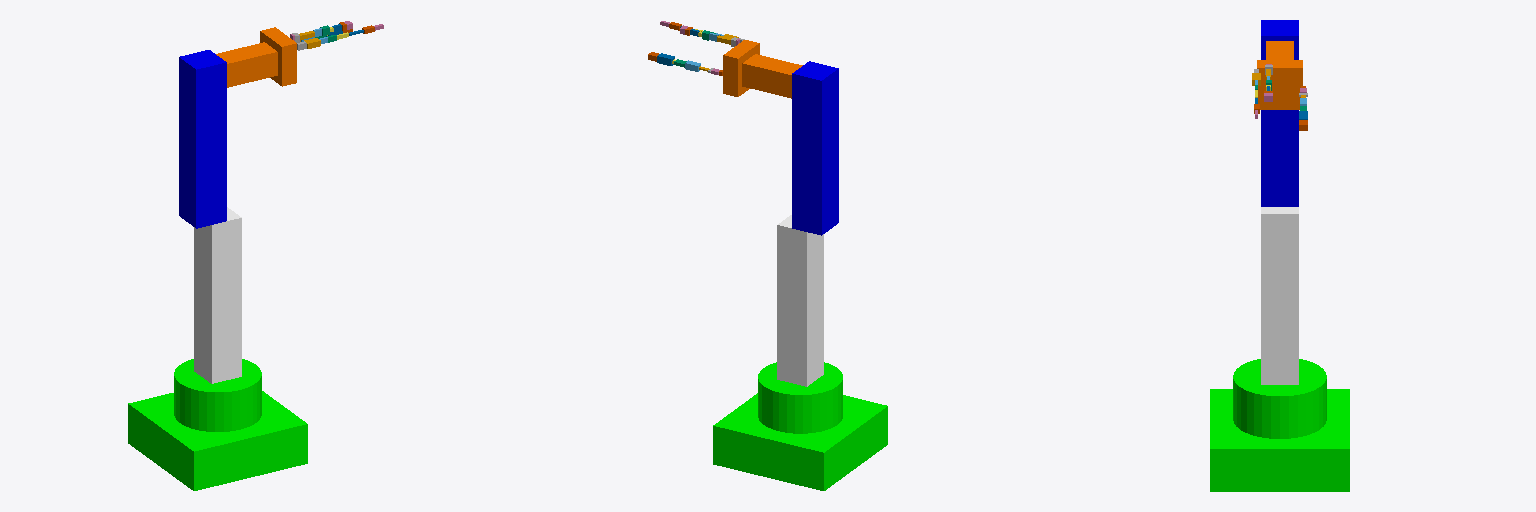
The robot description file, URDF, robot "robot":
<?xml version='1.0' encoding='utf-8'?>
<robot name="robot">
  <link name="base_link">
    <visual>
      <origin xyz="0 0 0.125" rpy="0 0 0" />
      <geometry>
        <box size="0.75 0.75 0.25" />
      </geometry>
      <material name="green" />
    </visual>
    <visual>
      <origin xyz="0 0 0.375" rpy="0 0 0" />
      <geometry>
        <cylinder length="0.25" radius="0.25" />
      </geometry>
      <material name="green">
        <color rgba="0 1 0 1" />
      </material>
    </visual>
    <collision>
      <geometry>
        <box size="0.75 0.75 0.5" />
      </geometry>
    </collision>
    <inertial>
      <mass value="0.5" />
      <inertia ixx="0.034" ixy="0.0" ixz="0.0" iyy="0.034" iyz="0.0" izz="0.034" />
    </inertial>
  </link>
  <link name="support_link">
    <visual>
      <origin xyz="0 0 0.5" rpy="0 0 0" />
      <geometry>
        <box size="0.2 0.2 1" />
      </geometry>
      <material name="white">
        <color rgba="1 1 1 1" />
      </material>
    </visual>
    <collision>
      <geometry>
        <box size="0.2 0.2 1" />
      </geometry>
    </collision>
    <inertial>
      <mass value="0.1" />
      <inertia ixx="0.01" ixy="0.0" ixz="0.0" iyy="0.01" iyz="0.0" izz="0.01" />
    </inertial>
  </link>
  <joint name="support_joint" type="continuous">
    <origin xyz="0 0 0.5" rpy="0 0 0" />
    <parent link="base_link" />
    <child link="support_link" />
    <axis xyz="0 0 1" />
  </joint>
  <link name="arm_link">
    <visual>
      <origin xyz="0 0 0.5" rpy="0 0 0" />
      <geometry>
        <box size="0.2 0.2 1" />
      </geometry>
      <material name="blue">
        <color rgba="0 0 1 1" />
      </material>
    </visual>
    <collision>
      <geometry>
        <box size="0.2 0.2 1" />
      </geometry>
    </collision>
    <inertial>
      <mass value="0.1" />
      <inertia ixx="0.01" ixy="0.0" ixz="0.0" iyy="0.01" iyz="0.0" izz="0.01" />
    </inertial>
  </link>
  <joint name="arm_joint" type="revolute">
    <origin xyz="-0.1 0 1" rpy="0 0 0" />
    <parent link="support_link" />
    <child link="arm_link" />
    <axis xyz="0 1 0" />
    <limit lower="-3.14" upper="3.14" effort="1.0" velocity="1.0" />
  </joint>
  <link name="wrist_link">
    <visual>
      <origin xyz="0 0 0.25" rpy="0 0 0" />
      <geometry>
        <box size="0.15 0.15 0.5" />
      </geometry>
      <material name="orange">
        <color rgba="1 0.5 0 1" />
      </material>
    </visual>
    <collision>
      <geometry>
        <box size="0.15 0.15 0.5" />
      </geometry>
    </collision>
    <inertial>
      <mass value="0.1" />
      <inertia ixx="0.01" ixy="0.0" ixz="0.0" iyy="0.01" iyz="0.0" izz="0.01" />
    </inertial>
  </link>
  <joint name="wrist_joint" type="fixed">
    <origin xyz="0 0 0.9" rpy="0 1.571 0" />
    <parent link="arm_link" />
    <child link="wrist_link" />
  </joint>
  <link name="palm_link">
    <visual>
      <origin xyz="0 0 0.05" rpy="0 0 0" />
      <geometry>
        <box size="0.25 0.25 0.1" />
      </geometry>
      <material name="orange" />
    </visual>
    <collision>
      <geometry>
        <box size="0.25 0.25 0.1" />
      </geometry>
    </collision>
    <inertial>
      <mass value="0.1" />
      <inertia ixx="0.01" ixy="0.0" ixz="0.0" iyy="0.01" iyz="0.0" izz="0.01" />
    </inertial>
  </link>
  <joint name="palm_joint" type="fixed">
    <origin xyz="0 0 0.45" rpy="0 0 0" />
    <parent link="wrist_link" />
    <child link="palm_link" />
  </joint>
  <link name="finger_link_0_0">
    <visual>
      <origin xyz="0 0 0.0125" rpy="0 0 0" />
      <geometry>
        <box size="0.026 0.024 0.025" />
      </geometry>
    </visual>
    <collision>
      <geometry>
        <box size="0.026 0.024 0.025" />
      </geometry>
    </collision>
    <inertial>
      <mass value="0.005" />
      <inertia ixx="0.0" iyy="0.0" izz="0.0" ixy="0" ixz="0" iyz="0" />
    </inertial>
  </link>
  <joint name="finger_joint_palm_link_to_finger_link_0_0" type="revolute">
    <origin xyz="-0.005 0.125 0.1" rpy="0 0 0" />
    <parent link="palm_link" />
    <child link="finger_link_0_0" />
    <axis xyz="-1.0 0.0 0.0" />
    <limit lower="-3.142" upper="3.142" effort="10" velocity="10" />
  </joint>
  <link name="finger_link_0_1">
    <visual>
      <origin xyz="0 0 0.024" rpy="0 0 0" />
      <geometry>
        <box size="0.021 0.036 0.048" />
      </geometry>
    </visual>
    <collision>
      <geometry>
        <box size="0.021 0.036 0.048" />
      </geometry>
    </collision>
    <inertial>
      <mass value="0.011" />
      <inertia ixx="0.0" iyy="0.0" izz="0.0" ixy="0" ixz="0" iyz="0" />
    </inertial>
  </link>
  <joint name="finger_joint_finger_link_0_0_to_finger_link_0_1" type="revolute">
    <origin xyz="0.0 0.0 0.025" rpy="0 0 0" />
    <parent link="finger_link_0_0" />
    <child link="finger_link_0_1" />
    <axis xyz="1.0 0.0 0.0" />
    <limit lower="-3.142" upper="3.142" effort="10" velocity="10" />
  </joint>
  <link name="finger_link_0_2">
    <visual>
      <origin xyz="0 0 0.0095" rpy="0 0 0" />
      <geometry>
        <box size="0.012 0.046 0.019" />
      </geometry>
    </visual>
    <collision>
      <geometry>
        <box size="0.012 0.046 0.019" />
      </geometry>
    </collision>
    <inertial>
      <mass value="0.003" />
      <inertia ixx="0.0" iyy="0.0" izz="0.0" ixy="0" ixz="0" iyz="0" />
    </inertial>
  </link>
  <joint name="finger_joint_finger_link_0_1_to_finger_link_0_2" type="revolute">
    <origin xyz="0.0 0.0 0.048" rpy="0 0 0" />
    <parent link="finger_link_0_1" />
    <child link="finger_link_0_2" />
    <axis xyz="0.0 1.0 0.0" />
    <limit lower="-3.142" upper="3.142" effort="10" velocity="10" />
  </joint>
  <link name="finger_link_0_3">
    <visual>
      <origin xyz="0 0 0.0345" rpy="0 0 0" />
      <geometry>
        <box size="0.01 0.023 0.069" />
      </geometry>
    </visual>
    <collision>
      <geometry>
        <box size="0.01 0.023 0.069" />
      </geometry>
    </collision>
    <inertial>
      <mass value="0.005" />
      <inertia ixx="0.0" iyy="0.0" izz="0.0" ixy="0" ixz="0" iyz="0" />
    </inertial>
  </link>
  <joint name="finger_joint_finger_link_0_2_to_finger_link_0_3" type="revolute">
    <origin xyz="0.0 0.0 0.019" rpy="0 0 0" />
    <parent link="finger_link_0_2" />
    <child link="finger_link_0_3" />
    <axis xyz="1.0 0.0 0.0" />
    <limit lower="-3.142" upper="3.142" effort="10" velocity="10" />
  </joint>
  <link name="finger_link_0_4">
    <visual>
      <origin xyz="0 0 0.043" rpy="0 0 0" />
      <geometry>
        <box size="0.04 0.042 0.086" />
      </geometry>
    </visual>
    <collision>
      <geometry>
        <box size="0.04 0.042 0.086" />
      </geometry>
    </collision>
    <inertial>
      <mass value="0.043" />
      <inertia ixx="0.0" iyy="0.0" izz="0.0" ixy="0" ixz="0" iyz="0" />
    </inertial>
  </link>
  <joint name="finger_joint_finger_link_0_3_to_finger_link_0_4" type="revolute">
    <origin xyz="0.0 0.0 0.069" rpy="0 0 0" />
    <parent link="finger_link_0_3" />
    <child link="finger_link_0_4" />
    <axis xyz="0.0 1.0 0.0" />
    <limit lower="-3.142" upper="3.142" effort="10" velocity="10" />
  </joint>
  <link name="finger_link_0_5">
    <visual>
      <origin xyz="0 0 0.0375" rpy="0 0 0" />
      <geometry>
        <box size="0.022 0.042 0.075" />
      </geometry>
    </visual>
    <collision>
      <geometry>
        <box size="0.022 0.042 0.075" />
      </geometry>
    </collision>
    <inertial>
      <mass value="0.021" />
      <inertia ixx="0.0" iyy="0.0" izz="0.0" ixy="0" ixz="0" iyz="0" />
    </inertial>
  </link>
  <joint name="finger_joint_finger_link_0_4_to_finger_link_0_5" type="revolute">
    <origin xyz="0.0 0.0 0.086" rpy="0 0 0" />
    <parent link="finger_link_0_4" />
    <child link="finger_link_0_5" />
    <axis xyz="0.0 1.0 0.0" />
    <limit lower="-3.142" upper="3.142" effort="10" velocity="10" />
  </joint>
  <link name="finger_link_0_6">
    <visual>
      <origin xyz="0 0 0.008" rpy="0 0 0" />
      <geometry>
        <box size="0.016 0.027 0.016" />
      </geometry>
    </visual>
    <collision>
      <geometry>
        <box size="0.016 0.027 0.016" />
      </geometry>
    </collision>
    <inertial>
      <mass value="0.002" />
      <inertia ixx="0.0" iyy="0.0" izz="0.0" ixy="0" ixz="0" iyz="0" />
    </inertial>
  </link>
  <joint name="finger_joint_finger_link_0_5_to_finger_link_0_6" type="revolute">
    <origin xyz="0.0 0.0 0.075" rpy="0 0 0" />
    <parent link="finger_link_0_5" />
    <child link="finger_link_0_6" />
    <axis xyz="0.0 1.0 0.0" />
    <limit lower="-3.142" upper="3.142" effort="10" velocity="10" />
  </joint>
  <link name="finger_link_0_7">
    <visual>
      <origin xyz="0 0 0.048" rpy="0 0 0" />
      <geometry>
        <box size="0.046 0.047 0.096" />
      </geometry>
    </visual>
    <collision>
      <geometry>
        <box size="0.046 0.047 0.096" />
      </geometry>
    </collision>
    <inertial>
      <mass value="0.062" />
      <inertia ixx="0.0" iyy="0.0" izz="0.0" ixy="0" ixz="0" iyz="0" />
    </inertial>
  </link>
  <joint name="finger_joint_finger_link_0_6_to_finger_link_0_7" type="revolute">
    <origin xyz="0.0 0.0 0.016" rpy="0 0 0" />
    <parent link="finger_link_0_6" />
    <child link="finger_link_0_7" />
    <axis xyz="0.0 1.0 0.0" />
    <limit lower="-3.142" upper="3.142" effort="10" velocity="10" />
  </joint>
  <link name="finger_link_0_8">
    <visual>
      <origin xyz="0 0 0.032" rpy="0 0 0" />
      <geometry>
        <box size="0.033 0.045 0.064" />
      </geometry>
    </visual>
    <collision>
      <geometry>
        <box size="0.033 0.045 0.064" />
      </geometry>
    </collision>
    <inertial>
      <mass value="0.029" />
      <inertia ixx="0.0" iyy="0.0" izz="0.0" ixy="0" ixz="0" iyz="0" />
    </inertial>
  </link>
  <joint name="finger_joint_finger_link_0_7_to_finger_link_0_8" type="revolute">
    <origin xyz="0.0 0.0 0.096" rpy="0 0 0" />
    <parent link="finger_link_0_7" />
    <child link="finger_link_0_8" />
    <axis xyz="0.0 1.0 0.0" />
    <limit lower="-3.142" upper="3.142" effort="10" velocity="10" />
  </joint>
  <link name="finger_link_1_0">
    <visual>
      <origin xyz="0 0 0.0065" rpy="0 0 0" />
      <geometry>
        <box size="0.049 0.03 0.013" />
      </geometry>
    </visual>
    <collision>
      <geometry>
        <box size="0.049 0.03 0.013" />
      </geometry>
    </collision>
    <inertial>
      <mass value="0.006" />
      <inertia ixx="0.0" iyy="0.0" izz="0.0" ixy="0" ixz="0" iyz="0" />
    </inertial>
  </link>
  <joint name="finger_joint_palm_link_to_finger_link_1_0" type="revolute">
    <origin xyz="-0.125 -0.06 0.1" rpy="0 0 0" />
    <parent link="palm_link" />
    <child link="finger_link_1_0" />
    <axis xyz="0.0 -1.0 0.0" />
    <limit lower="-3.142" upper="3.142" effort="10" velocity="10" />
  </joint>
  <link name="finger_link_1_1">
    <visual>
      <origin xyz="0 0 0.016" rpy="0 0 0" />
      <geometry>
        <box size="0.046 0.041 0.032" />
      </geometry>
    </visual>
    <collision>
      <geometry>
        <box size="0.046 0.041 0.032" />
      </geometry>
    </collision>
    <inertial>
      <mass value="0.018" />
      <inertia ixx="0.0" iyy="0.0" izz="0.0" ixy="0" ixz="0" iyz="0" />
    </inertial>
  </link>
  <joint name="finger_joint_finger_link_1_0_to_finger_link_1_1" type="revolute">
    <origin xyz="0.0 0.0 0.013" rpy="0 0 0" />
    <parent link="finger_link_1_0" />
    <child link="finger_link_1_1" />
    <axis xyz="0.0 1.0 0.0" />
    <limit lower="-3.142" upper="3.142" effort="10" velocity="10" />
  </joint>
  <link name="finger_link_1_2">
    <visual>
      <origin xyz="0 0 0.05" rpy="0 0 0" />
      <geometry>
        <box size="0.028 0.029 0.1" />
      </geometry>
    </visual>
    <collision>
      <geometry>
        <box size="0.028 0.029 0.1" />
      </geometry>
    </collision>
    <inertial>
      <mass value="0.024" />
      <inertia ixx="0.0" iyy="0.0" izz="0.0" ixy="0" ixz="0" iyz="0" />
    </inertial>
  </link>
  <joint name="finger_joint_finger_link_1_1_to_finger_link_1_2" type="revolute">
    <origin xyz="0.0 0.0 0.032" rpy="0 0 0" />
    <parent link="finger_link_1_1" />
    <child link="finger_link_1_2" />
    <axis xyz="0.0 1.0 0.0" />
    <limit lower="-3.142" upper="3.142" effort="10" velocity="10" />
  </joint>
  <link name="finger_link_1_3">
    <visual>
      <origin xyz="0 0 0.026" rpy="0 0 0" />
      <geometry>
        <box size="0.042 0.016 0.052" />
      </geometry>
    </visual>
    <collision>
      <geometry>
        <box size="0.042 0.016 0.052" />
      </geometry>
    </collision>
    <inertial>
      <mass value="0.01" />
      <inertia ixx="0.0" iyy="0.0" izz="0.0" ixy="0" ixz="0" iyz="0" />
    </inertial>
  </link>
  <joint name="finger_joint_finger_link_1_2_to_finger_link_1_3" type="revolute">
    <origin xyz="0.0 0.0 0.1" rpy="0 0 0" />
    <parent link="finger_link_1_2" />
    <child link="finger_link_1_3" />
    <axis xyz="1.0 0.0 0.0" />
    <limit lower="-3.142" upper="3.142" effort="10" velocity="10" />
  </joint>
  <link name="finger_link_1_4">
    <visual>
      <origin xyz="0 0 0.024" rpy="0 0 0" />
      <geometry>
        <box size="0.045 0.034 0.048" />
      </geometry>
    </visual>
    <collision>
      <geometry>
        <box size="0.045 0.034 0.048" />
      </geometry>
    </collision>
    <inertial>
      <mass value="0.022" />
      <inertia ixx="0.0" iyy="0.0" izz="0.0" ixy="0" ixz="0" iyz="0" />
    </inertial>
  </link>
  <joint name="finger_joint_finger_link_1_3_to_finger_link_1_4" type="revolute">
    <origin xyz="0.0 0.0 0.052" rpy="0 0 0" />
    <parent link="finger_link_1_3" />
    <child link="finger_link_1_4" />
    <axis xyz="0.0 1.0 0.0" />
    <limit lower="-3.142" upper="3.142" effort="10" velocity="10" />
  </joint>
  <link name="finger_link_1_5">
    <visual>
      <origin xyz="0 0 0.012" rpy="0 0 0" />
      <geometry>
        <box size="0.022 0.024 0.024" />
      </geometry>
    </visual>
    <collision>
      <geometry>
        <box size="0.022 0.024 0.024" />
      </geometry>
    </collision>
    <inertial>
      <mass value="0.004" />
      <inertia ixx="0.0" iyy="0.0" izz="0.0" ixy="0" ixz="0" iyz="0" />
    </inertial>
  </link>
  <joint name="finger_joint_finger_link_1_4_to_finger_link_1_5" type="revolute">
    <origin xyz="0.0 0.0 0.048" rpy="0 0 0" />
    <parent link="finger_link_1_4" />
    <child link="finger_link_1_5" />
    <axis xyz="1.0 0.0 0.0" />
    <limit lower="-3.142" upper="3.142" effort="10" velocity="10" />
  </joint>
  <link name="finger_link_1_6">
    <visual>
      <origin xyz="0 0 0.028" rpy="0 0 0" />
      <geometry>
        <box size="0.032 0.018 0.056" />
      </geometry>
    </visual>
    <collision>
      <geometry>
        <box size="0.032 0.018 0.056" />
      </geometry>
    </collision>
    <inertial>
      <mass value="0.01" />
      <inertia ixx="0.0" iyy="0.0" izz="0.0" ixy="0" ixz="0" iyz="0" />
    </inertial>
  </link>
  <joint name="finger_joint_finger_link_1_5_to_finger_link_1_6" type="revolute">
    <origin xyz="0.0 0.0 0.024" rpy="0 0 0" />
    <parent link="finger_link_1_5" />
    <child link="finger_link_1_6" />
    <axis xyz="0.0 1.0 0.0" />
    <limit lower="-3.142" upper="3.142" effort="10" velocity="10" />
  </joint>
  <link name="finger_link_1_7">
    <visual>
      <origin xyz="0 0 0.013" rpy="0 0 0" />
      <geometry>
        <box size="0.035 0.048 0.026" />
      </geometry>
    </visual>
    <collision>
      <geometry>
        <box size="0.035 0.048 0.026" />
      </geometry>
    </collision>
    <inertial>
      <mass value="0.013" />
      <inertia ixx="0.0" iyy="0.0" izz="0.0" ixy="0" ixz="0" iyz="0" />
    </inertial>
  </link>
  <joint name="finger_joint_finger_link_1_6_to_finger_link_1_7" type="revolute">
    <origin xyz="0.0 0.0 0.056" rpy="0 0 0" />
    <parent link="finger_link_1_6" />
    <child link="finger_link_1_7" />
    <axis xyz="0.0 1.0 0.0" />
    <limit lower="-3.142" upper="3.142" effort="10" velocity="10" />
  </joint>
  <link name="finger_link_1_8">
    <visual>
      <origin xyz="0 0 0.0195" rpy="0 0 0" />
      <geometry>
        <box size="0.034 0.046 0.039" />
      </geometry>
    </visual>
    <collision>
      <geometry>
        <box size="0.034 0.046 0.039" />
      </geometry>
    </collision>
    <inertial>
      <mass value="0.018" />
      <inertia ixx="0.0" iyy="0.0" izz="0.0" ixy="0" ixz="0" iyz="0" />
    </inertial>
  </link>
  <joint name="finger_joint_finger_link_1_7_to_finger_link_1_8" type="revolute">
    <origin xyz="0.0 0.0 0.026" rpy="0 0 0" />
    <parent link="finger_link_1_7" />
    <child link="finger_link_1_8" />
    <axis xyz="1.0 0.0 0.0" />
    <limit lower="-3.142" upper="3.142" effort="10" velocity="10" />
  </joint>
  <link name="finger_link_2_0">
    <visual>
      <origin xyz="0 0 0.0275" rpy="0 0 0" />
      <geometry>
        <box size="0.038 0.022 0.055" />
      </geometry>
    </visual>
    <collision>
      <geometry>
        <box size="0.038 0.022 0.055" />
      </geometry>
    </collision>
    <inertial>
      <mass value="0.014" />
      <inertia ixx="0.0" iyy="0.0" izz="0.0" ixy="0" ixz="0" iyz="0" />
    </inertial>
  </link>
  <joint name="finger_joint_palm_link_to_finger_link_2_0" type="revolute">
    <origin xyz="-0.101 -0.125 0.1" rpy="0 0 0" />
    <parent link="palm_link" />
    <child link="finger_link_2_0" />
    <axis xyz="1.0 0.0 0.0" />
    <limit lower="-3.142" upper="3.142" effort="10" velocity="10" />
  </joint>
  <link name="finger_link_2_1">
    <visual>
      <origin xyz="0 0 0.0425" rpy="0 0 0" />
      <geometry>
        <box size="0.035 0.049 0.085" />
      </geometry>
    </visual>
    <collision>
      <geometry>
        <box size="0.035 0.049 0.085" />
      </geometry>
    </collision>
    <inertial>
      <mass value="0.044" />
      <inertia ixx="0.0" iyy="0.0" izz="0.0" ixy="0" ixz="0" iyz="0" />
    </inertial>
  </link>
  <joint name="finger_joint_finger_link_2_0_to_finger_link_2_1" type="revolute">
    <origin xyz="0.0 0.0 0.055" rpy="0 0 0" />
    <parent link="finger_link_2_0" />
    <child link="finger_link_2_1" />
    <axis xyz="1.0 0.0 0.0" />
    <limit lower="-3.142" upper="3.142" effort="10" velocity="10" />
  </joint>
  <link name="finger_link_2_2">
    <visual>
      <origin xyz="0 0 0.0285" rpy="0 0 0" />
      <geometry>
        <box size="0.032 0.015 0.057" />
      </geometry>
    </visual>
    <collision>
      <geometry>
        <box size="0.032 0.015 0.057" />
      </geometry>
    </collision>
    <inertial>
      <mass value="0.008" />
      <inertia ixx="0.0" iyy="0.0" izz="0.0" ixy="0" ixz="0" iyz="0" />
    </inertial>
  </link>
  <joint name="finger_joint_finger_link_2_1_to_finger_link_2_2" type="revolute">
    <origin xyz="0.0 0.0 0.085" rpy="0 0 0" />
    <parent link="finger_link_2_1" />
    <child link="finger_link_2_2" />
    <axis xyz="1.0 0.0 0.0" />
    <limit lower="-3.142" upper="3.142" effort="10" velocity="10" />
  </joint>
  <link name="finger_link_2_3">
    <visual>
      <origin xyz="0 0 0.0285" rpy="0 0 0" />
      <geometry>
        <box size="0.033 0.018 0.057" />
      </geometry>
    </visual>
    <collision>
      <geometry>
        <box size="0.033 0.018 0.057" />
      </geometry>
    </collision>
    <inertial>
      <mass value="0.01" />
      <inertia ixx="0.0" iyy="0.0" izz="0.0" ixy="0" ixz="0" iyz="0" />
    </inertial>
  </link>
  <joint name="finger_joint_finger_link_2_2_to_finger_link_2_3" type="revolute">
    <origin xyz="0.0 0.0 0.057" rpy="0 0 0" />
    <parent link="finger_link_2_2" />
    <child link="finger_link_2_3" />
    <axis xyz="1.0 0.0 0.0" />
    <limit lower="-3.142" upper="3.142" effort="10" velocity="10" />
  </joint>
  <link name="finger_link_2_4">
    <visual>
      <origin xyz="0 0 0.042" rpy="0 0 0" />
      <geometry>
        <box size="0.024 0.013 0.084" />
      </geometry>
    </visual>
    <collision>
      <geometry>
        <box size="0.024 0.013 0.084" />
      </geometry>
    </collision>
    <inertial>
      <mass value="0.008" />
      <inertia ixx="0.0" iyy="0.0" izz="0.0" ixy="0" ixz="0" iyz="0" />
    </inertial>
  </link>
  <joint name="finger_joint_finger_link_2_3_to_finger_link_2_4" type="revolute">
    <origin xyz="0.0 0.0 0.057" rpy="0 0 0" />
    <parent link="finger_link_2_3" />
    <child link="finger_link_2_4" />
    <axis xyz="0.0 1.0 0.0" />
    <limit lower="-3.142" upper="3.142" effort="10" velocity="10" />
  </joint>
  <link name="finger_link_2_5">
    <visual>
      <origin xyz="0 0 0.0475" rpy="0 0 0" />
      <geometry>
        <box size="0.012 0.018 0.095" />
      </geometry>
    </visual>
    <collision>
      <geometry>
        <box size="0.012 0.018 0.095" />
      </geometry>
    </collision>
    <inertial>
      <mass value="0.006" />
      <inertia ixx="0.0" iyy="0.0" izz="0.0" ixy="0" ixz="0" iyz="0" />
    </inertial>
  </link>
  <joint name="finger_joint_finger_link_2_4_to_finger_link_2_5" type="revolute">
    <origin xyz="0.0 0.0 0.084" rpy="0 0 0" />
    <parent link="finger_link_2_4" />
    <child link="finger_link_2_5" />
    <axis xyz="1.0 0.0 0.0" />
    <limit lower="-3.142" upper="3.142" effort="10" velocity="10" />
  </joint>
  <link name="finger_link_2_6">
    <visual>
      <origin xyz="0 0 0.034" rpy="0 0 0" />
      <geometry>
        <box size="0.029 0.032 0.068" />
      </geometry>
    </visual>
    <collision>
      <geometry>
        <box size="0.029 0.032 0.068" />
      </geometry>
    </collision>
    <inertial>
      <mass value="0.019" />
      <inertia ixx="0.0" iyy="0.0" izz="0.0" ixy="0" ixz="0" iyz="0" />
    </inertial>
  </link>
  <joint name="finger_joint_finger_link_2_5_to_finger_link_2_6" type="revolute">
    <origin xyz="0.0 0.0 0.095" rpy="0 0 0" />
    <parent link="finger_link_2_5" />
    <child link="finger_link_2_6" />
    <axis xyz="0.0 1.0 0.0" />
    <limit lower="-3.142" upper="3.142" effort="10" velocity="10" />
  </joint>
  <link name="finger_link_2_7">
    <visual>
      <origin xyz="0 0 0.0315" rpy="0 0 0" />
      <geometry>
        <box size="0.023 0.019 0.063" />
      </geometry>
    </visual>
    <collision>
      <geometry>
        <box size="0.023 0.019 0.063" />
      </geometry>
    </collision>
    <inertial>
      <mass value="0.008" />
      <inertia ixx="0.0" iyy="0.0" izz="0.0" ixy="0" ixz="0" iyz="0" />
    </inertial>
  </link>
  <joint name="finger_joint_finger_link_2_6_to_finger_link_2_7" type="revolute">
    <origin xyz="0.0 0.0 0.068" rpy="0 0 0" />
    <parent link="finger_link_2_6" />
    <child link="finger_link_2_7" />
    <axis xyz="1.0 0.0 0.0" />
    <limit lower="-3.142" upper="3.142" effort="10" velocity="10" />
  </joint>
</robot>

--- What the picture shows (computed from the rendered views, not written in the file) ---
Views: 3 orthographic renders of the robot side by side, from view 1: azimuth 30°, elevation 25°; view 2: azimuth 150°, elevation 25°; view 3: azimuth 270°, elevation 25°.
Robot: robot — 31 links, 30 joints (27 revolute, 1 continuous, 2 fixed); root link base_link; default pose: every joint at zero.
Visible links, largest first — view 1: base_link, arm_link, support_link, wrist_link, palm_link; view 2: base_link, arm_link, support_link, wrist_link, palm_link; view 3: base_link, support_link, arm_link, palm_link, wrist_link.
Link boxes in pixels (left/top/right/bottom): base_link: left=128, top=359, right=307, bottom=490; arm_link: left=179, top=50, right=226, bottom=228; support_link: left=194, top=207, right=241, bottom=383; wrist_link: left=216, top=42, right=277, bottom=87; palm_link: left=260, top=27, right=296, bottom=86; base_link: left=713, top=362, right=887, bottom=490; arm_link: left=792, top=61, right=838, bottom=235; support_link: left=777, top=215, right=823, bottom=386; wrist_link: left=742, top=54, right=802, bottom=98; palm_link: left=723, top=40, right=759, bottom=96; base_link: left=1210, top=359, right=1349, bottom=491; support_link: left=1261, top=207, right=1298, bottom=384; arm_link: left=1261, top=20, right=1298, bottom=206; palm_link: left=1257, top=60, right=1302, bottom=109; wrist_link: left=1266, top=41, right=1293, bottom=59.
Bounding box of the posed robot: 1.39 × 0.75 × 2.55 m (x, y, z).
Geometry: primitives only (box / cylinder / sphere), no mesh files.